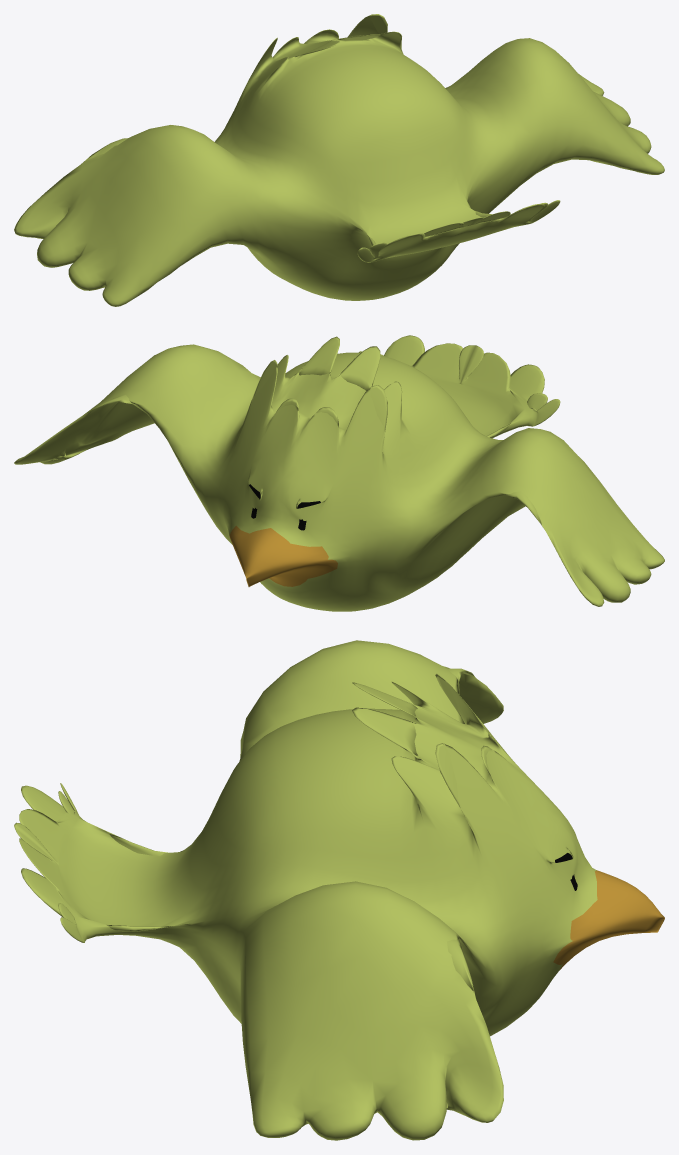
Rendered from predetor_21.glb.
The picture shows the model from 3 angles, top to bottom: view 1: azimuth 30°, elevation 25°; view 2: azimuth 150°, elevation 25°; view 3: azimuth 270°, elevation 25°; orthographic projection. The views are drawn at different scales.
Parts seen in each view (by area): view 1: Cube; view 2: Cube; view 3: Cube.
Part boxes in pixels (left/top/right/bottom): Cube: left=14, top=14, right=664, bottom=306; Cube: left=14, top=335, right=664, bottom=611; Cube: left=14, top=640, right=664, bottom=1140.
Size of the model in its own units: 8.76 by 3.59 by 5.94.
